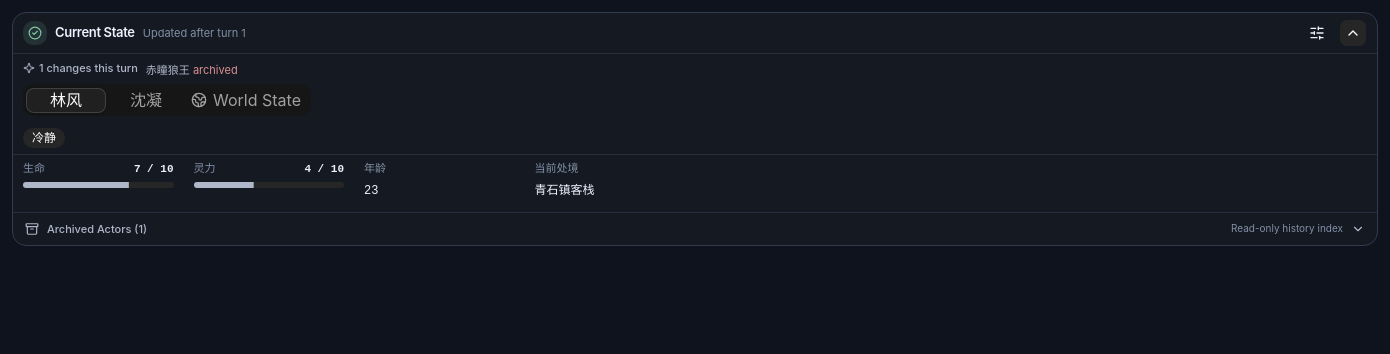
Scenario: StoryStateLedger › localizes the Actor archive drawer in English
Click the button "Archived Actors (1)" at [97, 229], box [13,213,1377,245]
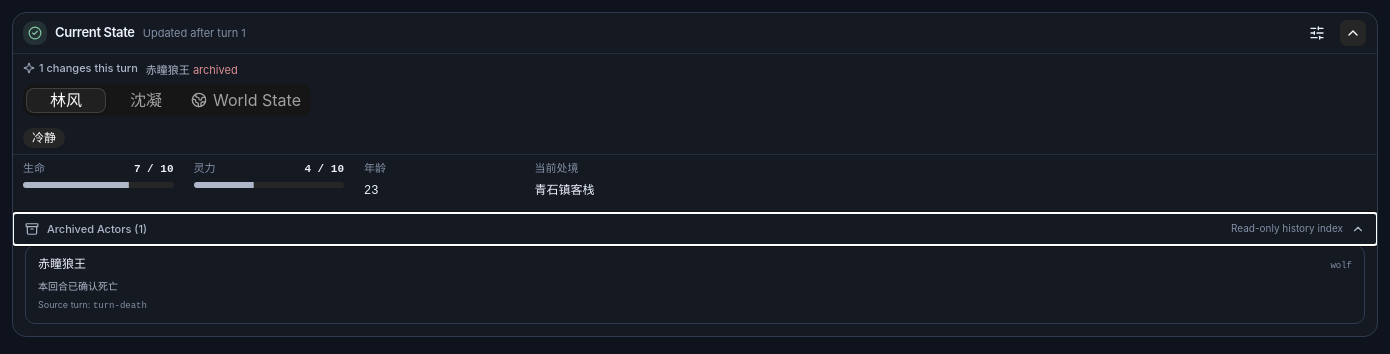
Now the text "Source turn: turn-death" is shown, box [38,299,147,311]
